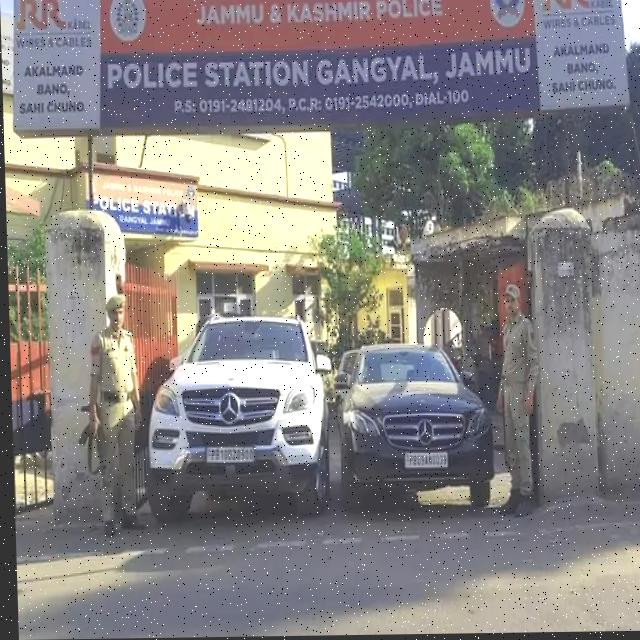plate: (199, 443, 257, 470), (398, 449, 451, 474)
